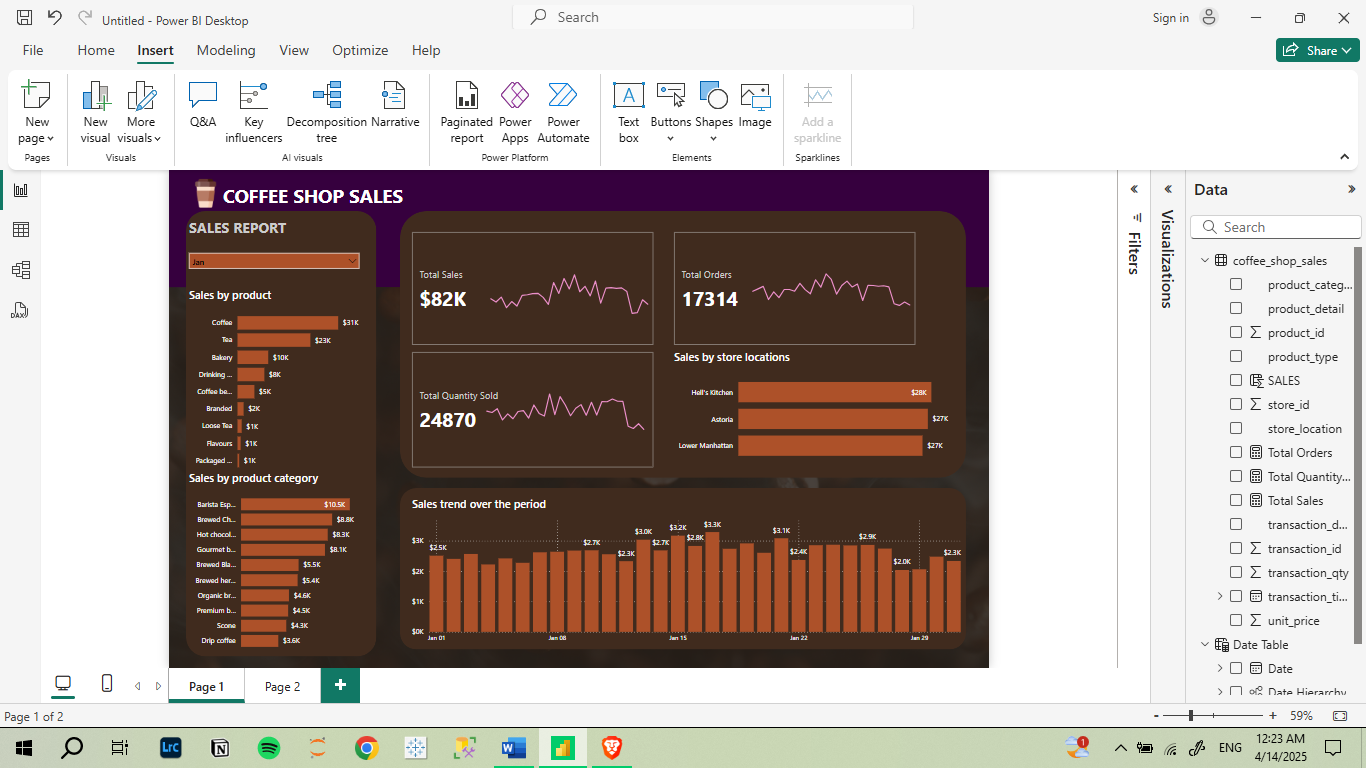

This screenshot's page, from the dashboard's own definition file:
{"tool":"powerbi","page":{"name":"Page 1","canvas":[1400,850],"ordinal":0},"visuals":[{"type":"shape","box":[0,0,1400,200.3],"z":0},{"type":"shape","box":[395,542,966.4,275.6],"z":1000},{"type":"shape","box":[395,69.8,966.4,455.6],"z":2000},{"type":"shape","box":[29.4,69.8,325.2,760.6],"z":3000},{"type":"textbox","box":[86.4,16.5,327,53.3],"z":4000},{"type":"cardVisual","fields":{"Data":["coffee_shop_sales.Total Sales"]},"box":[409.7,101,422.6,203.9],"z":5000},{"type":"slicer","fields":{"Values":["Date Table.Month"]},"box":[29.4,136,301.3,44.1],"z":6000},{"type":"lineChart","fields":{"Category":["Date Table.Date Hierarchy.Date"],"Y":["coffee_shop_sales.Total Sales"]},"box":[534.6,154.3,297.6,99.2],"z":7000},{"type":"cardVisual","fields":{"Data":["coffee_shop_sales.Total Orders"]},"box":[856.2,101,422.6,203.9],"z":8000},{"type":"lineChart","fields":{"Category":["Date Table.Date Hierarchy.Date"],"Y":["coffee_shop_sales.Total Orders"]},"box":[981.1,154.3,297.6,99.2],"z":9000},{"type":"cardVisual","fields":{"Data":["coffee_shop_sales.Total Quantity Sold"]},"box":[409.7,305,422.6,207.6],"z":10000},{"type":"lineChart","fields":{"Category":["Date Table.Date Hierarchy.Date"],"Y":["coffee_shop_sales.Total Quantity Sold"]},"box":[527.3,358.3,297.6,99.2],"z":11000},{"type":"clusteredBarChart","title":"Sales by store locations","fields":{"Category":["coffee_shop_sales.store_location"],"Y":["coffee_shop_sales.Total Sales"]},"box":[856.2,305,483.2,207.6],"z":12000},{"type":"columnChart","title":"Sales trend over the period","fields":{"Category":["coffee_shop_sales.transaction_date"],"Y":["coffee_shop_sales.Total Sales"]},"box":[409.7,556.7,951.7,260.9],"z":13000},{"type":"clusteredBarChart","title":"Sales by product ","fields":{"Y":["coffee_shop_sales.Total Sales"],"Category":["coffee_shop_sales.product_category"]},"box":[29.4,200.3,301.3,325.2],"z":14000},{"type":"clusteredBarChart","title":"Sales by product category","fields":{"Y":["coffee_shop_sales.Total Sales"],"Category":["coffee_shop_sales.product_type"]},"box":[29.4,512.6,325.2,317.8],"z":15000},{"type":"textbox","box":[29.4,77.2,189.2,45.9],"z":15001},{"type":"image","box":[29.4,11,66.1,58.8],"z":15002}]}

Visuals, with their boxes in screenshot pixels (x1, y1, x2, y2):
shape: BBox(142, 0, 1365, 168)
shape: BBox(494, 473, 1356, 718)
shape: BBox(494, 52, 1356, 458)
shape: BBox(168, 52, 458, 730)
textbox: BBox(219, 4, 511, 52)
cardVisual - coffee_shop_sales.Total Sales: BBox(508, 79, 884, 261)
slicer - Date Table.Month: BBox(168, 111, 437, 150)
lineChart - Date Table.Date Hierarchy.Date x coffee_shop_sales.Total Sales: BBox(619, 127, 884, 215)
cardVisual - coffee_shop_sales.Total Orders: BBox(906, 79, 1282, 261)
lineChart - Date Table.Date Hierarchy.Date x coffee_shop_sales.Total Orders: BBox(1017, 127, 1282, 215)
cardVisual - coffee_shop_sales.Total Quantity Sold: BBox(508, 261, 884, 446)
lineChart - Date Table.Date Hierarchy.Date x coffee_shop_sales.Total Quantity Sold: BBox(612, 309, 878, 397)
"Sales by store locations" clusteredBarChart: BBox(906, 261, 1336, 446)
"Sales trend over the period" columnChart: BBox(508, 486, 1356, 718)
"Sales by product " clusteredBarChart: BBox(168, 168, 437, 458)
"Sales by product category" clusteredBarChart: BBox(168, 446, 458, 730)
textbox: BBox(168, 58, 337, 99)
image: BBox(168, 0, 227, 52)
